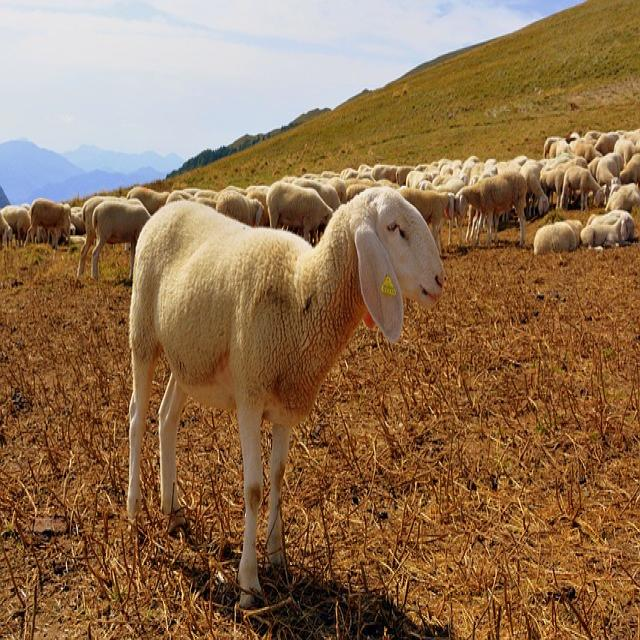goat: (126, 186, 443, 613), (78, 196, 151, 280), (458, 174, 529, 246), (28, 199, 76, 246), (533, 220, 583, 255)
